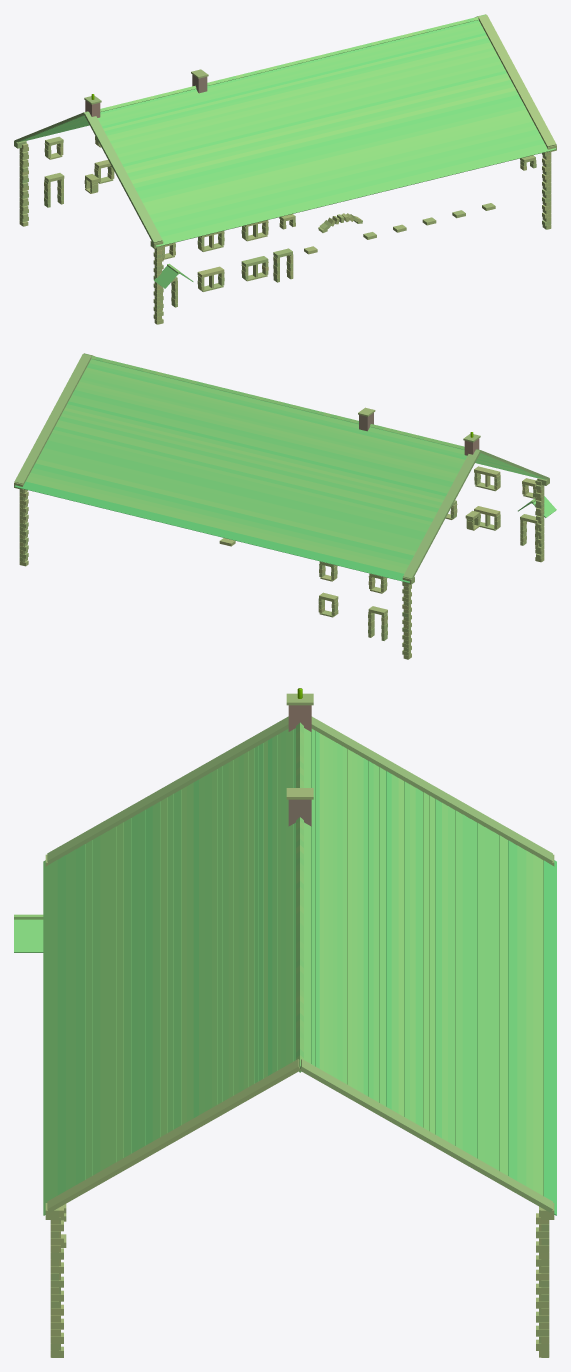
The model's file is SM_Bld_143_Stone.glb.
3 renders of one model, top to bottom at view 1: azimuth 30°, elevation 25°; view 2: azimuth 150°, elevation 25°; view 3: azimuth 270°, elevation 25°, orthographic. The views are drawn at different scales.
Parts seen in each view (by area): view 1: SM_Bld_143_Stone; view 2: SM_Bld_143_Stone; view 3: SM_Bld_143_Stone.
Boxes of the visible parts, x1,y1,x2,y2 form: SM_Bld_143_Stone: [14, 14, 556, 324]; SM_Bld_143_Stone: [14, 353, 556, 659]; SM_Bld_143_Stone: [14, 688, 556, 1357].
Bounding box in the file's own units: 32.6 × 13.85 × 21.02.
